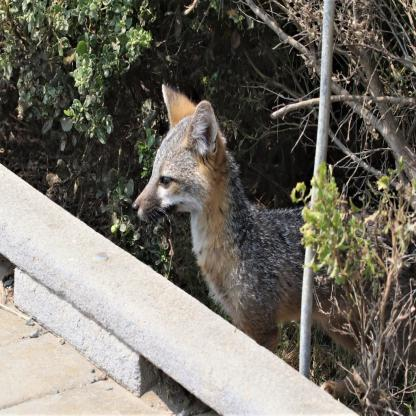zorro: (130, 76, 416, 386)
